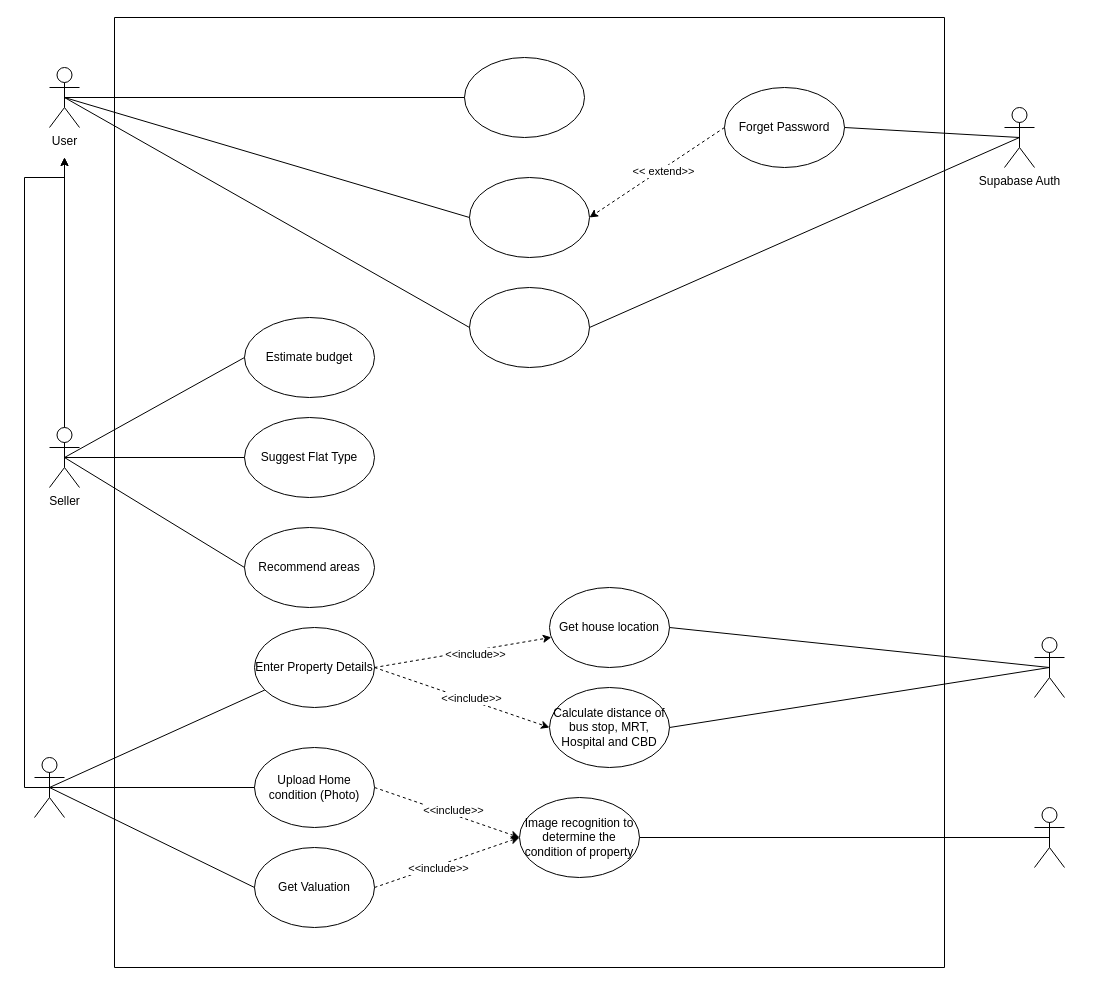
The diagram is 1110 pixels wide and 985 high, and some of its shapes have lost their labels. Each missing label, with the box of its shape:
Buyer: (34, 756, 64, 818)
Google Map API: (1034, 636, 1064, 698)
Logout: (464, 56, 584, 138)
Sign in: (468, 176, 590, 258)
Sign up: (468, 286, 590, 368)
Tensorflow: (1034, 806, 1064, 868)
